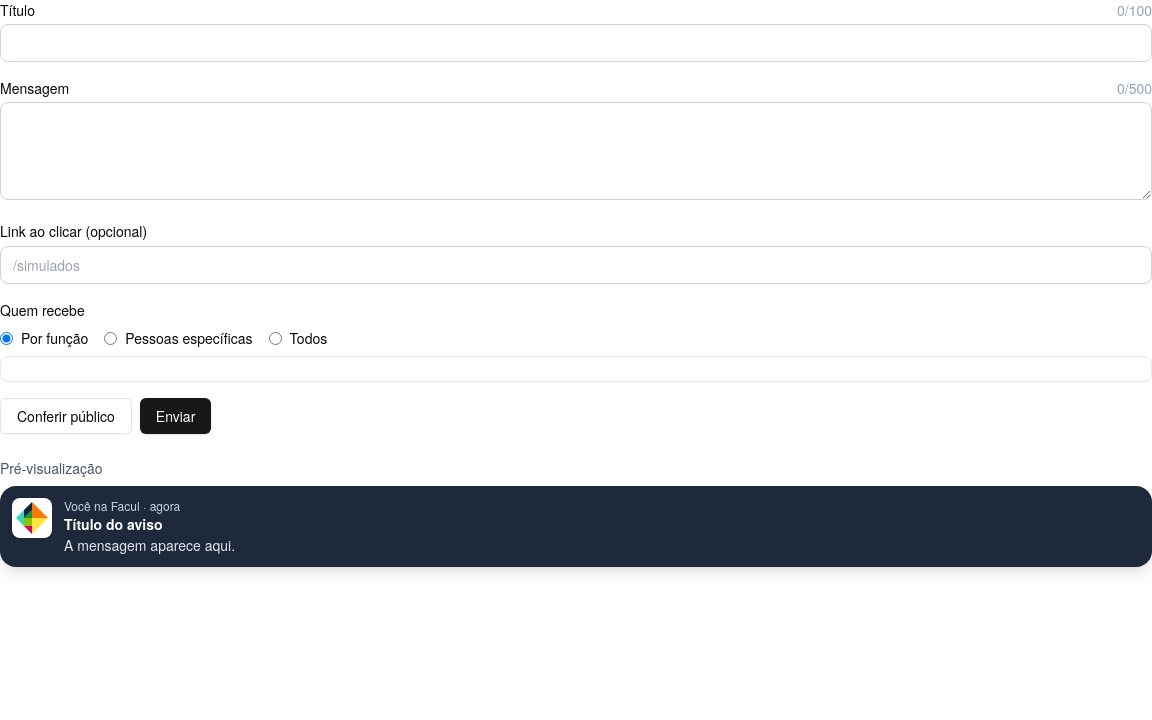
Scenario: NovaNotificacao › pessoas específicas: busca por nome, mostra quem ativou e envia pelo e-mail achado
Step 1. Type "Oi" into the field labelled "Título 0/100" → {"x": 576, "y": 43}, box left=0, top=24, right=1151, bottom=62
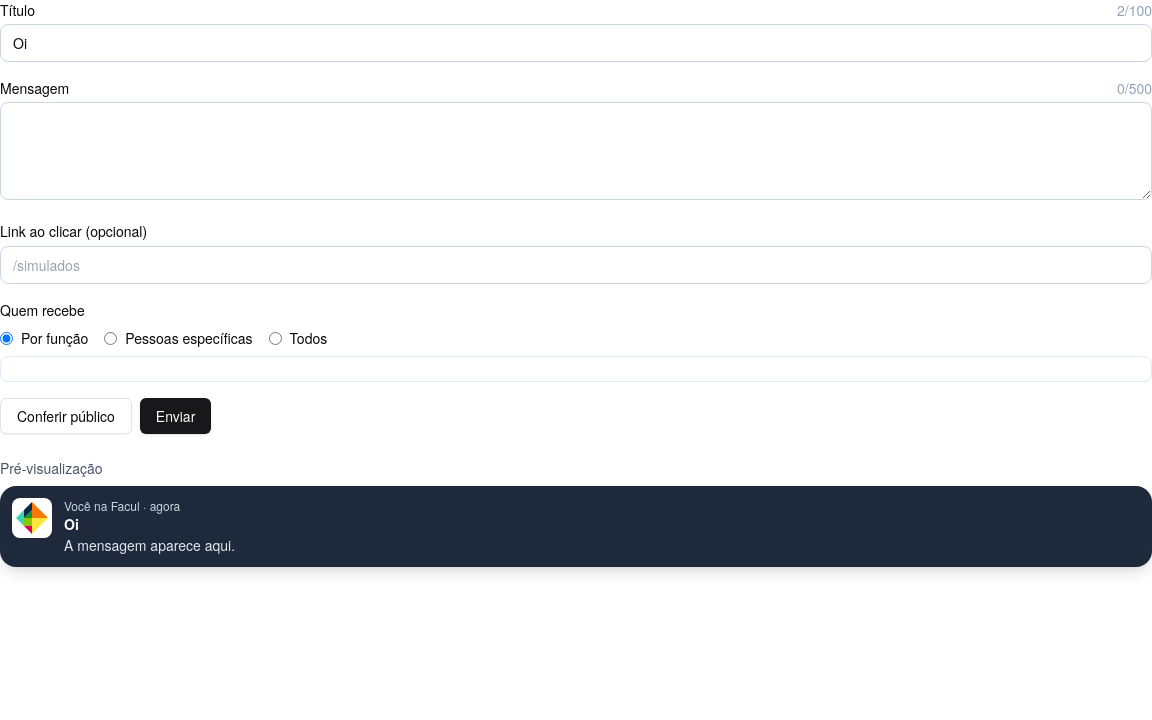
Step 2. Type "Só para você." into the text box labelled "Mensagem 0/500" → {"x": 576, "y": 151}, box left=0, top=102, right=1151, bottom=200
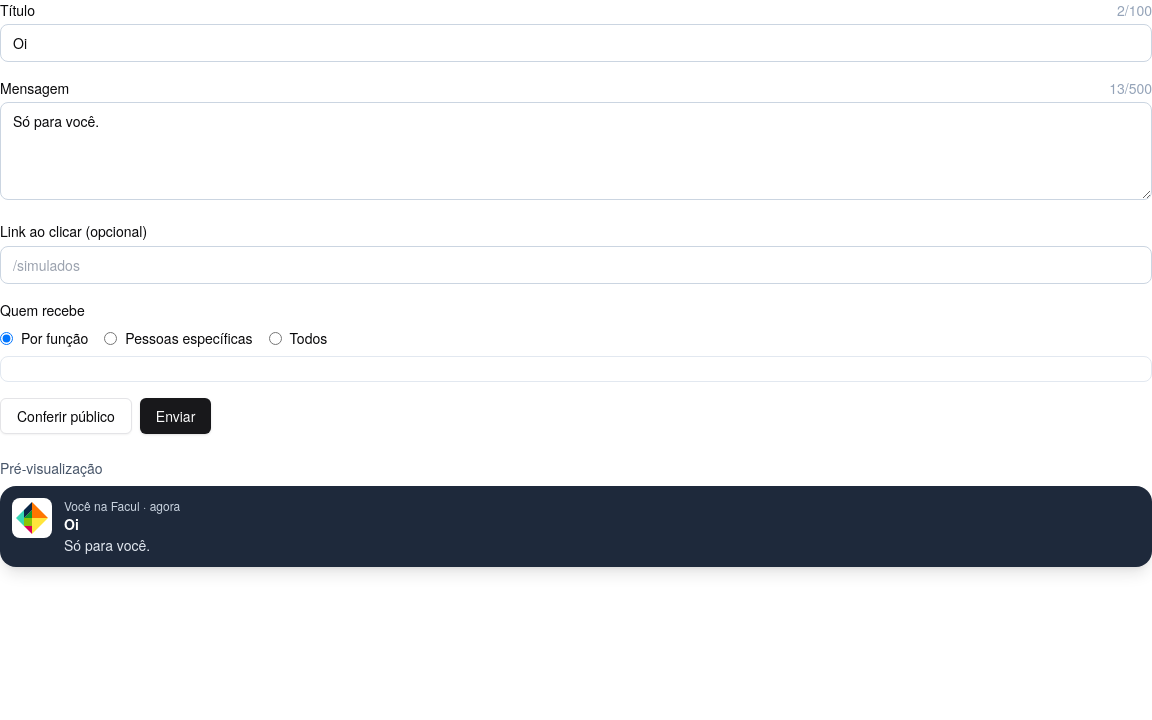
Step 3. Click the radio button labelled "Pessoas específicas" → {"x": 111, "y": 338}, box left=104, top=332, right=117, bottom=344
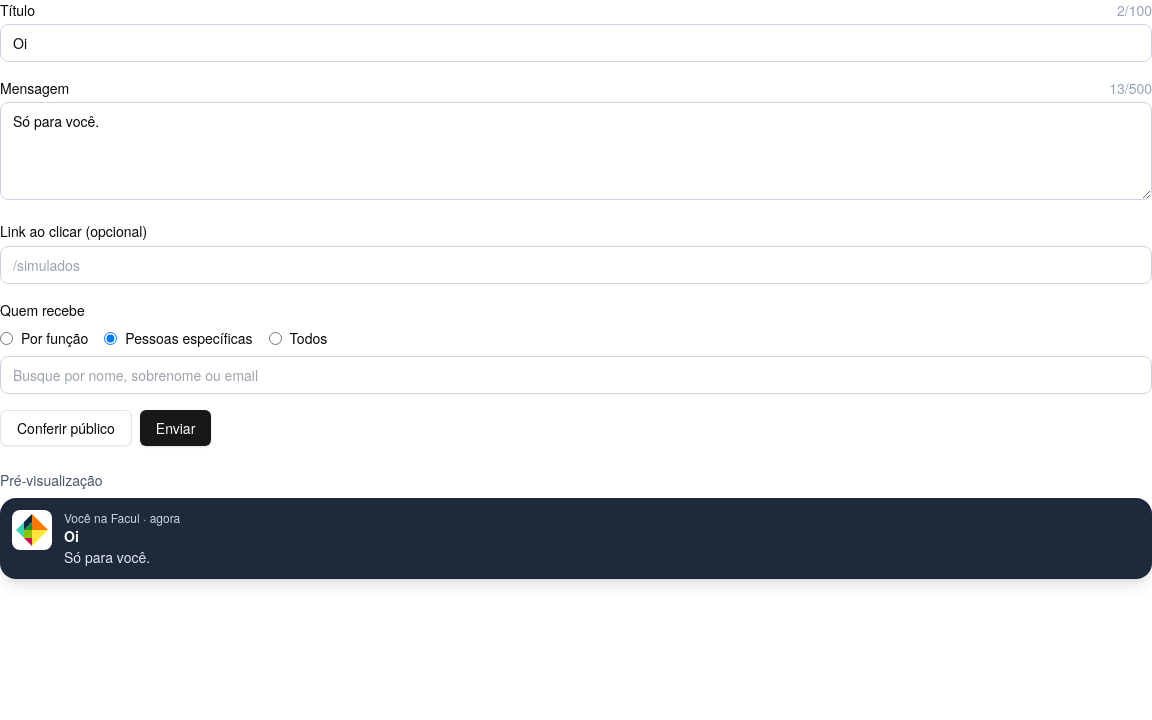
Step 4. Type "mari" into the field named "Buscar pessoa por nome ou e-mail" → {"x": 576, "y": 375}, box left=0, top=356, right=1151, bottom=394
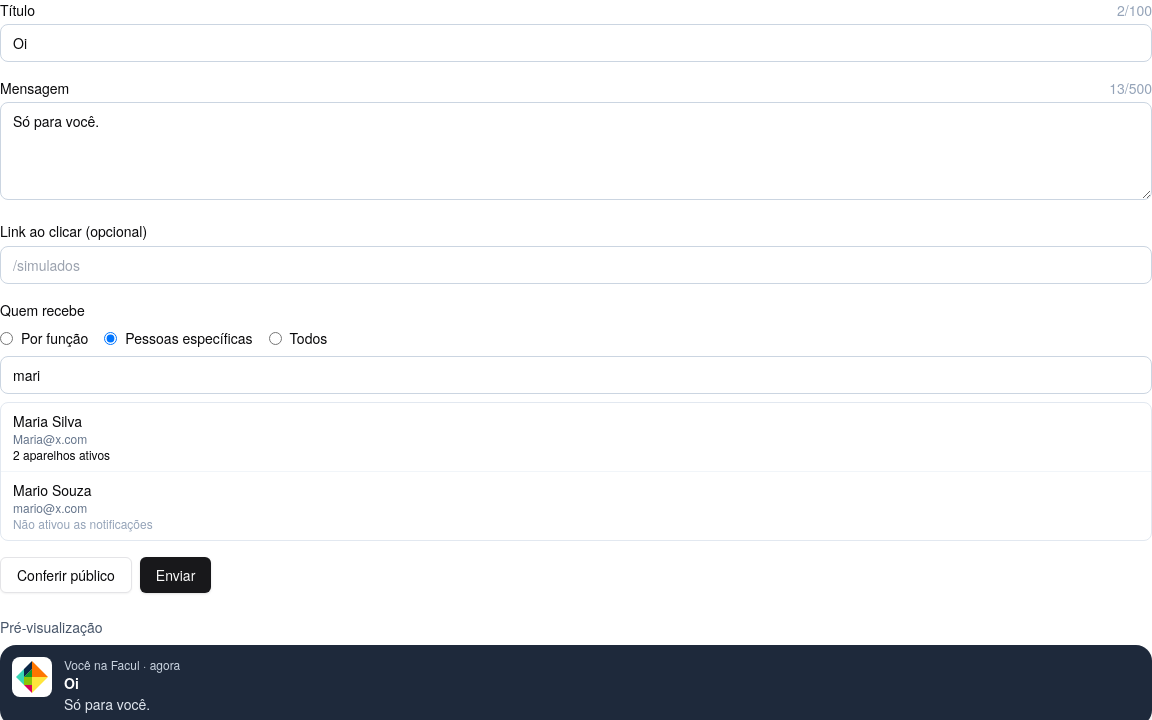
Result: the list named "Resultados da busca" shows "2 aparelhos ativos"
Result: the list named "Resultados da busca" shows "Não ativou as notificações" at left=1, top=472, right=1151, bottom=540
Step 5. Click the button "Maria Silva Maria@x.com 2 aparelhos ativos" → {"x": 47, "y": 421}, box left=1, top=403, right=1151, bottom=471
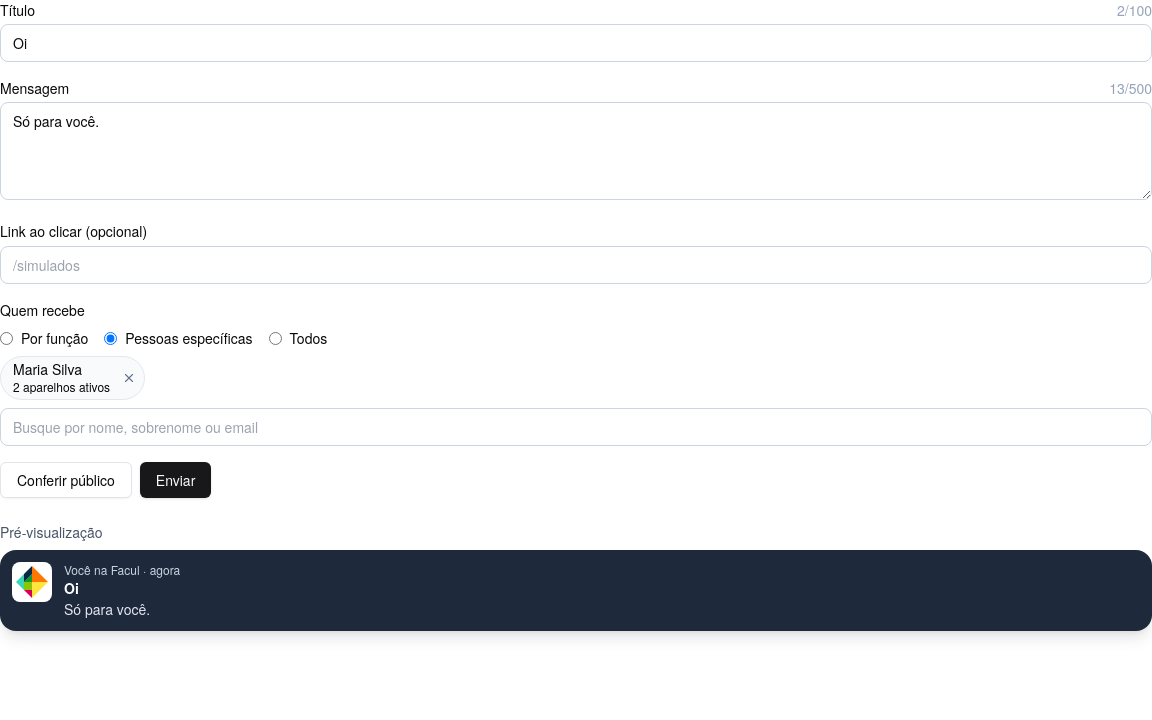
Result: the list named "Pessoas escolhidas" shows "Maria Silva" at left=13, top=359, right=82, bottom=379
Step 6. Click the button "Conferir público" → {"x": 66, "y": 480}, box left=0, top=462, right=132, bottom=498
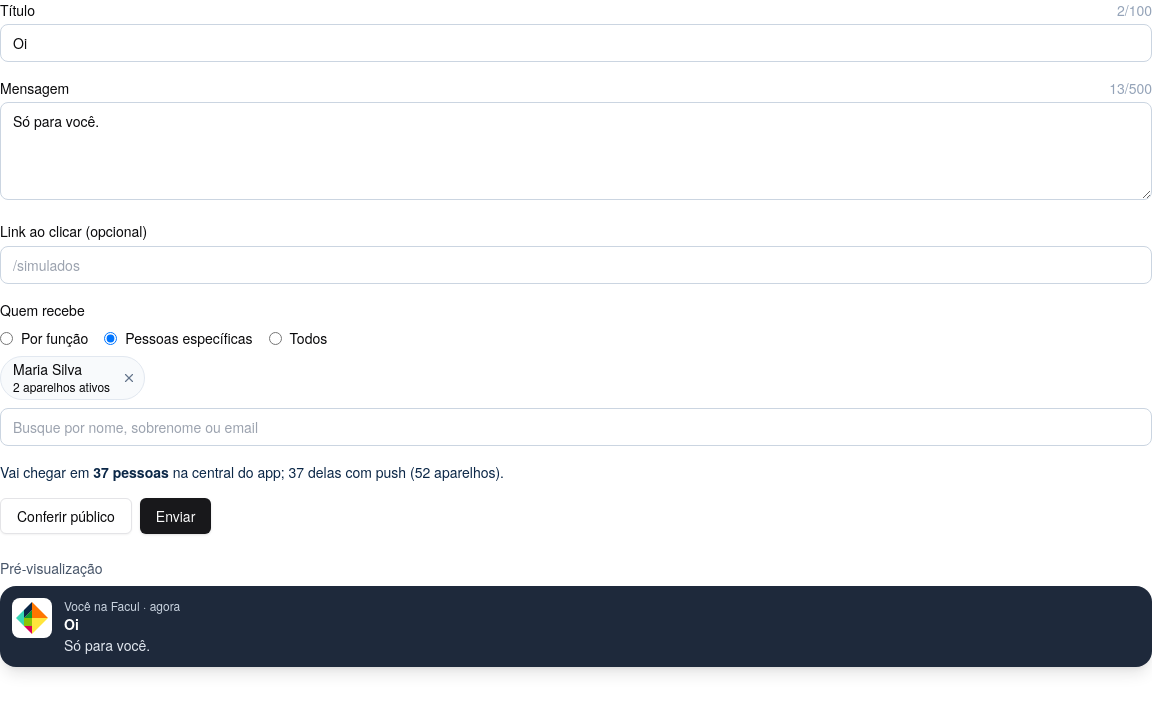
Result: the text "37 pessoas" is shown at left=93, top=462, right=169, bottom=482
